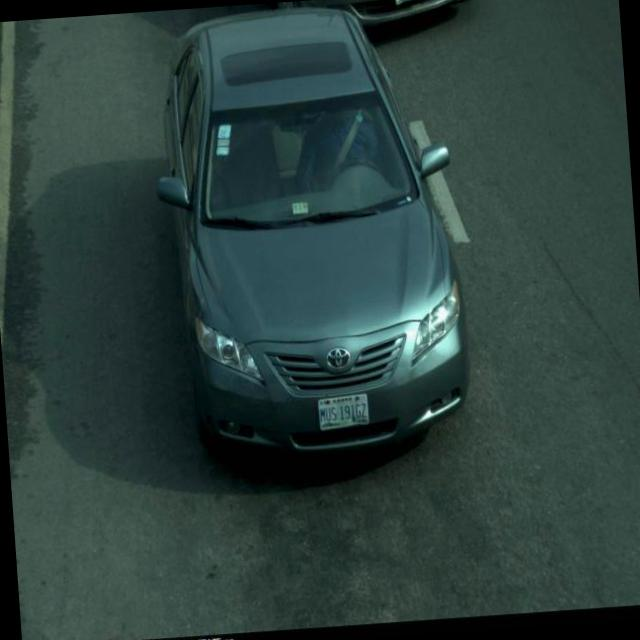person_with_seatbelt: (299, 92, 392, 198)
